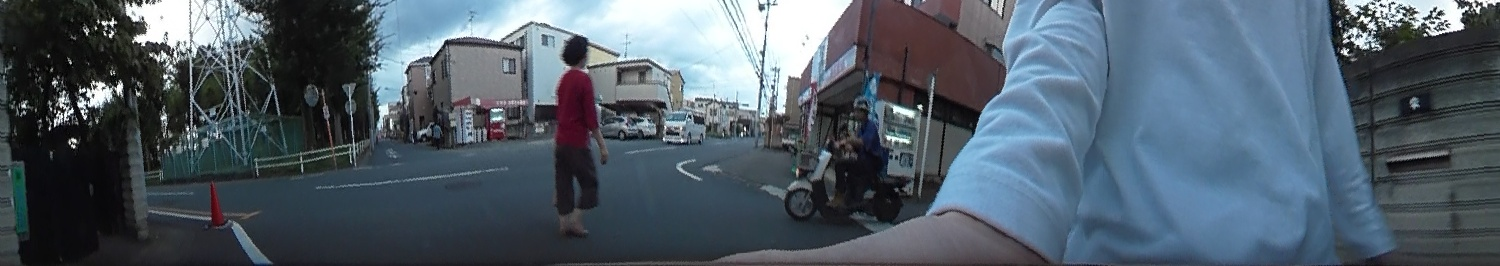difficult_person: (429, 118, 442, 149)
person: (545, 29, 601, 241), (830, 91, 884, 219)
